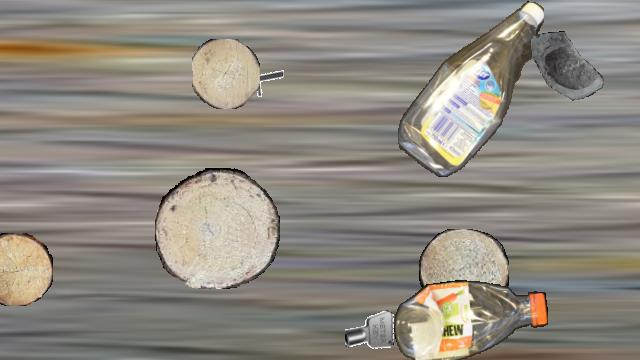glass: (531, 31, 613, 113)
metal: (345, 306, 395, 356), (246, 61, 284, 99)
plastic: (398, 1, 544, 177), (394, 279, 548, 359)
wood: (155, 168, 279, 288), (419, 229, 509, 313), (192, 39, 260, 109), (0, 233, 52, 305)
